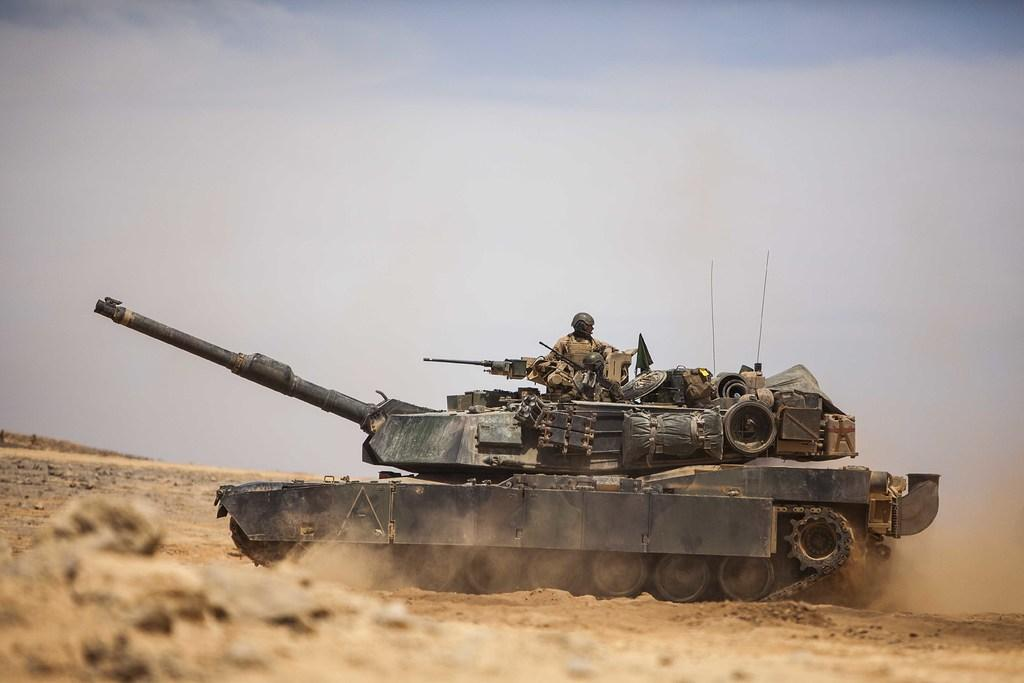Tank: (94, 249, 943, 604)
